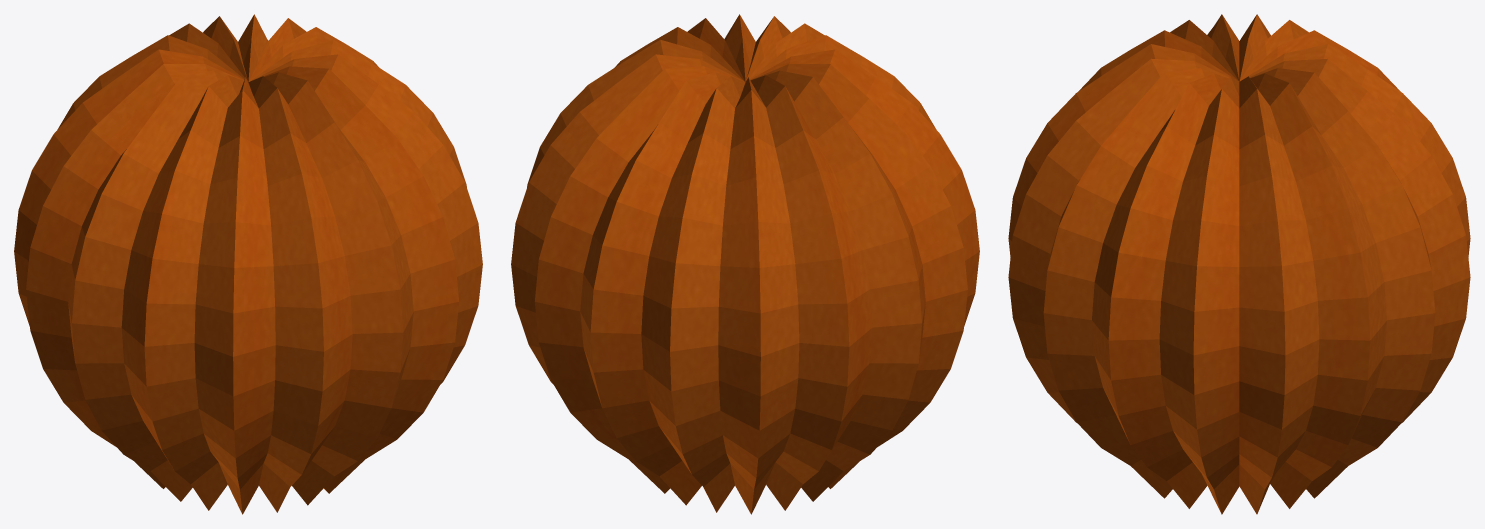
Rendered from PUMPKIN.glb.
The picture shows the model from 3 angles, left to right: view 1: azimuth 30°, elevation 25°; view 2: azimuth 150°, elevation 25°; view 3: azimuth 270°, elevation 25°; orthographic projection.
Visible parts, largest first — view 1: Sphere; view 2: Sphere; view 3: Sphere.
Part boxes in pixels (<box>): Sphere: <box>14,14,482,514</box>; Sphere: <box>511,14,979,514</box>; Sphere: <box>1008,14,1470,514</box>.
Size of the model in its own units: 1.96 by 2 by 1.96.
1 material, 1 textured.
